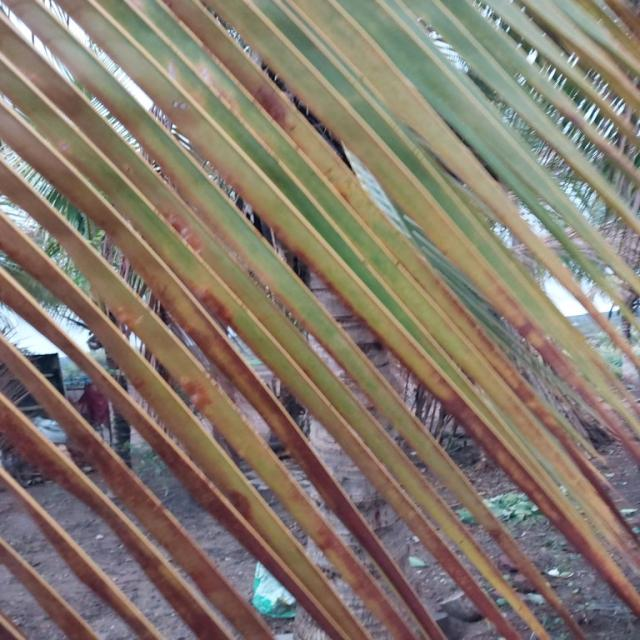gray leaf spot: (0, 195, 562, 637)
